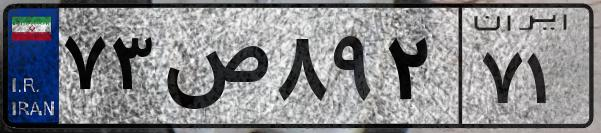1: (525, 38, 570, 115)
2: (385, 28, 445, 110)
3: (110, 28, 158, 98)
7: (57, 26, 110, 100), (475, 38, 525, 113)
8: (270, 28, 330, 110)
9: (330, 28, 385, 110)
ص: (158, 20, 270, 120)
